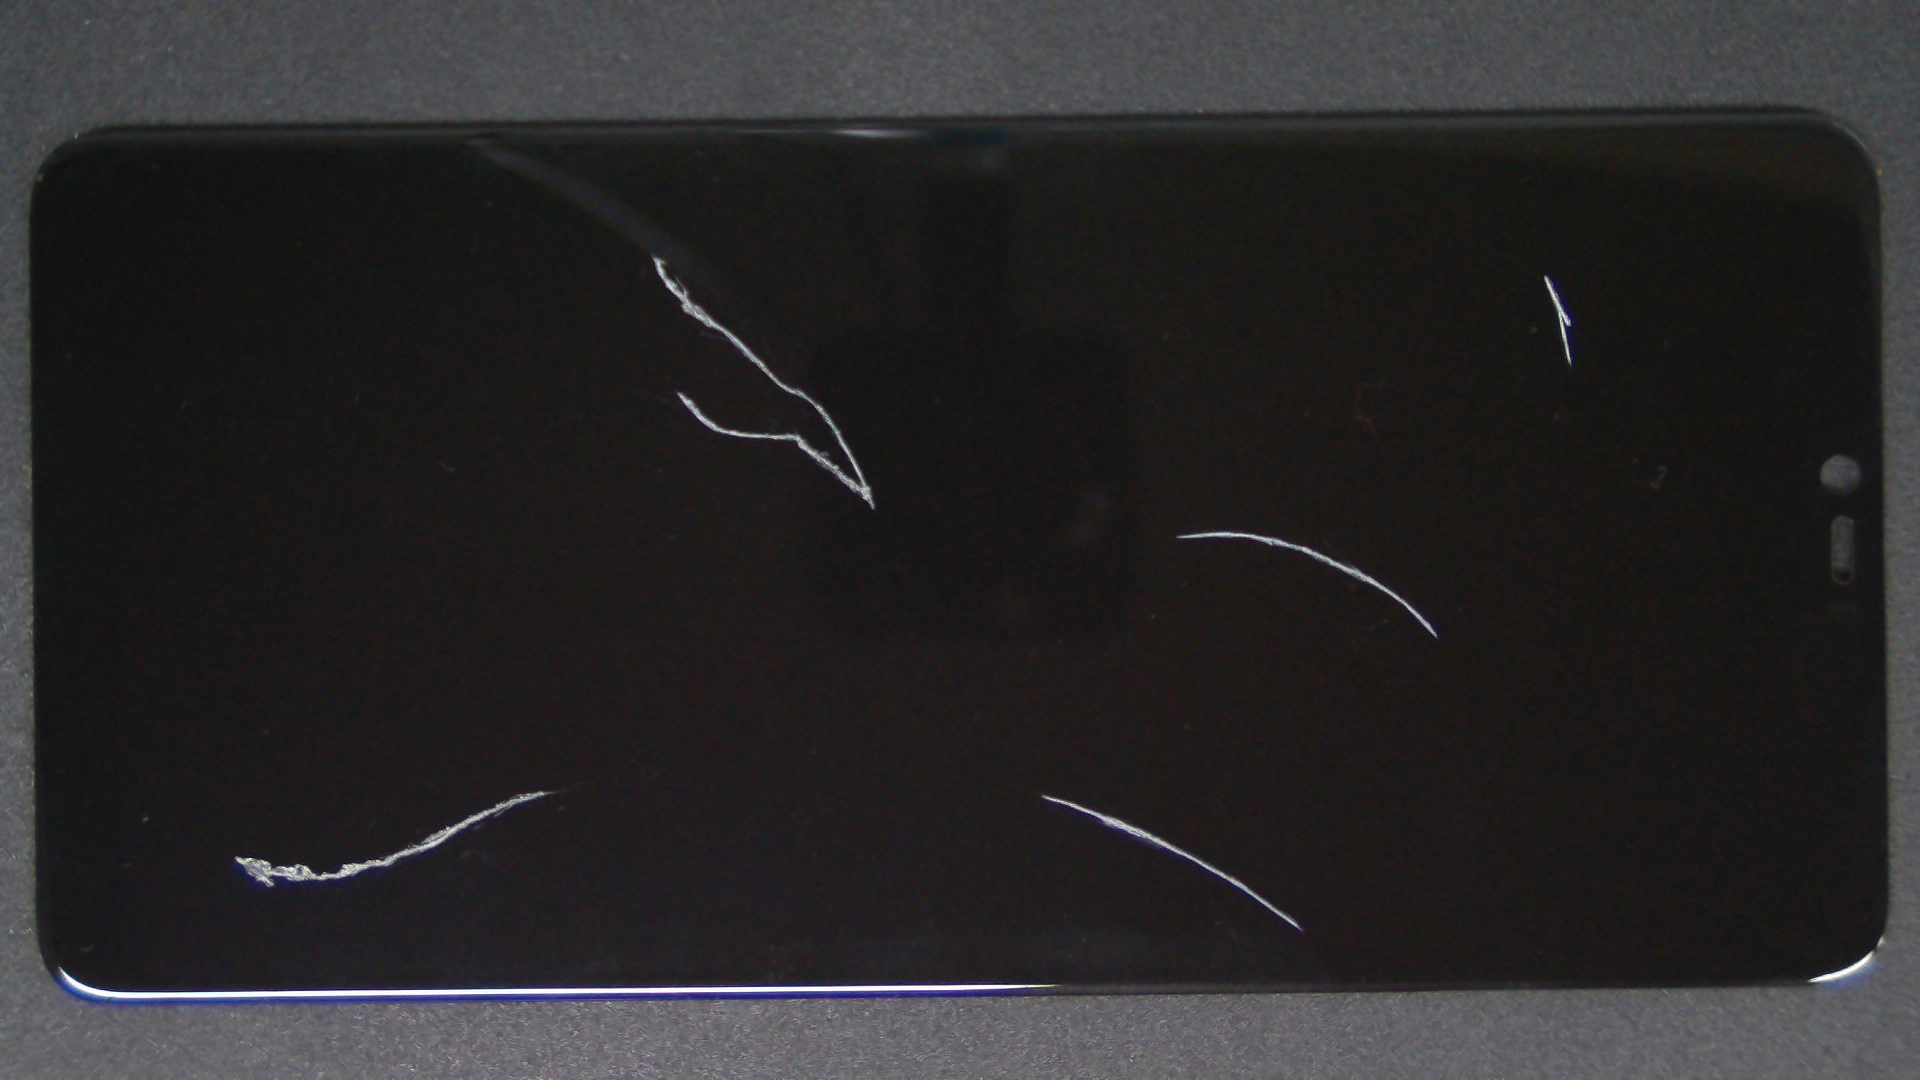defect: (649, 252, 876, 512), (1040, 793, 1305, 932), (233, 789, 560, 887), (1174, 530, 1437, 640), (1543, 274, 1572, 367)
